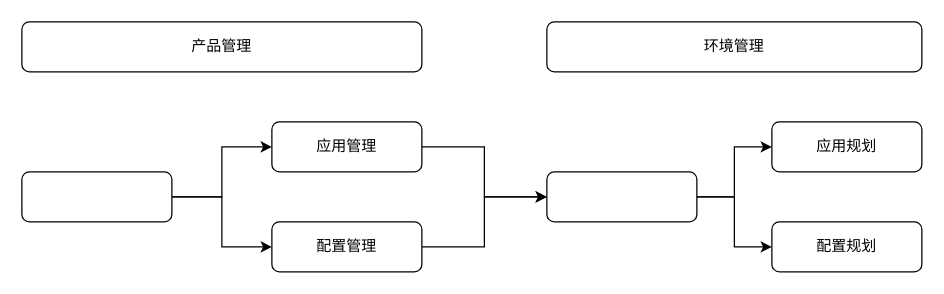
Some shapes in this 944 by 294 pixel diagram are drawn without their labels. Here are the shapes that lost their labels. From the top down, the centre of each, then its label:
At point (96, 196): "产品发布".
At point (621, 196): "环境升级/回滚".
